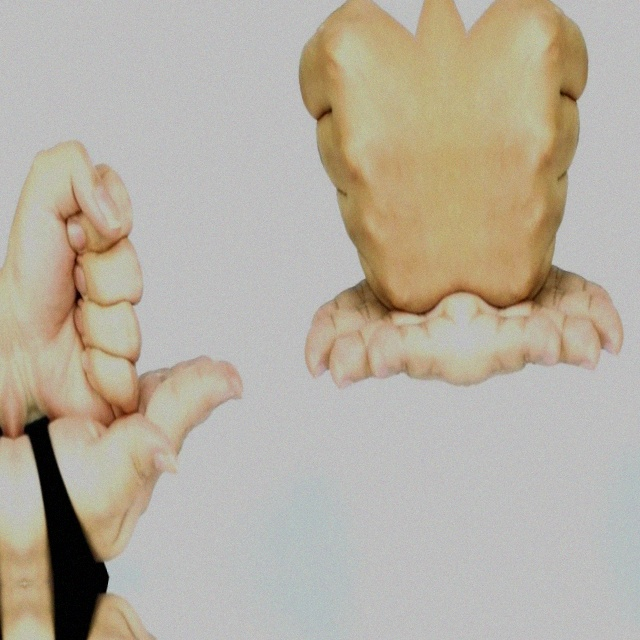Rock: (279, 0, 463, 340), (0, 121, 15, 468)
